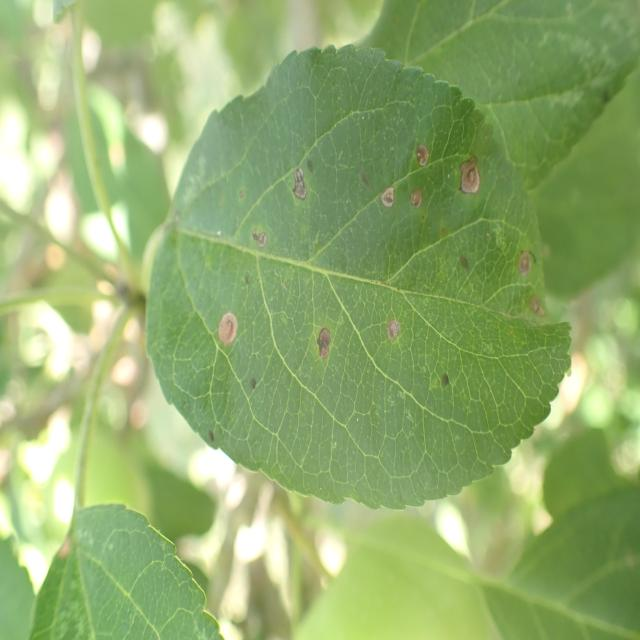frog-eye-leaf-spot: (144, 46, 573, 510)
